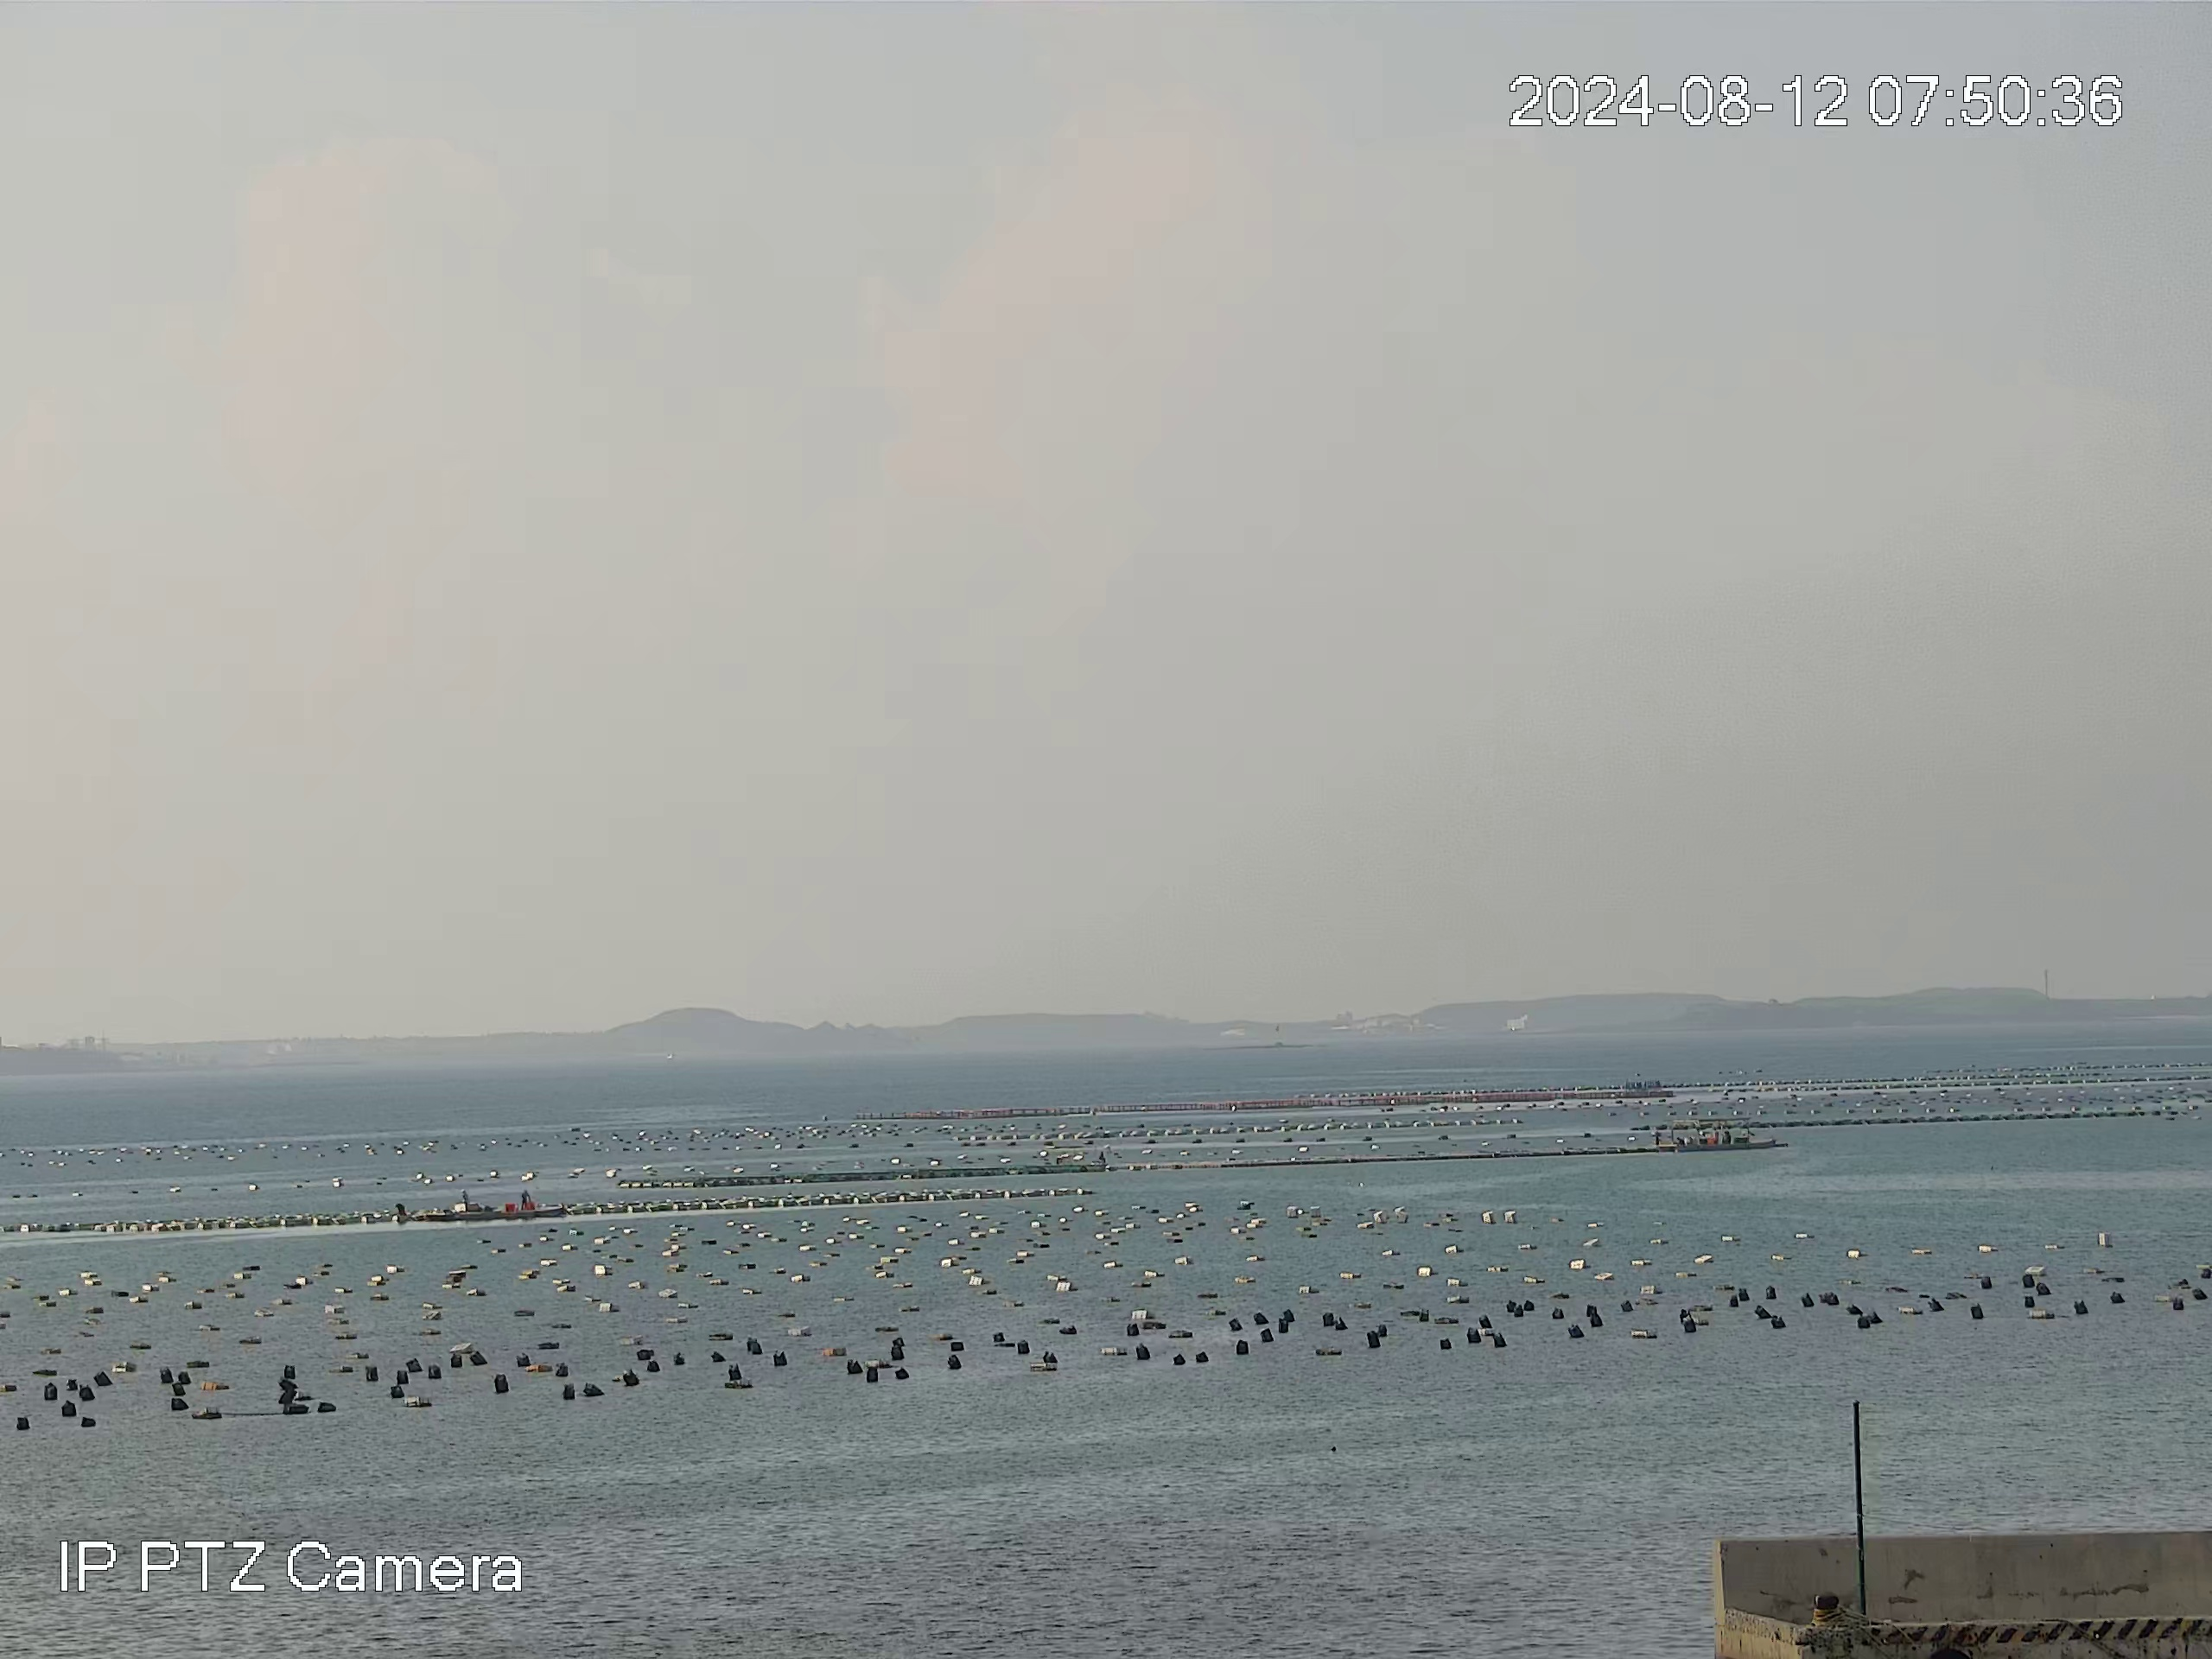boat: (394, 1187, 571, 1222), (1649, 1110, 1782, 1148)
